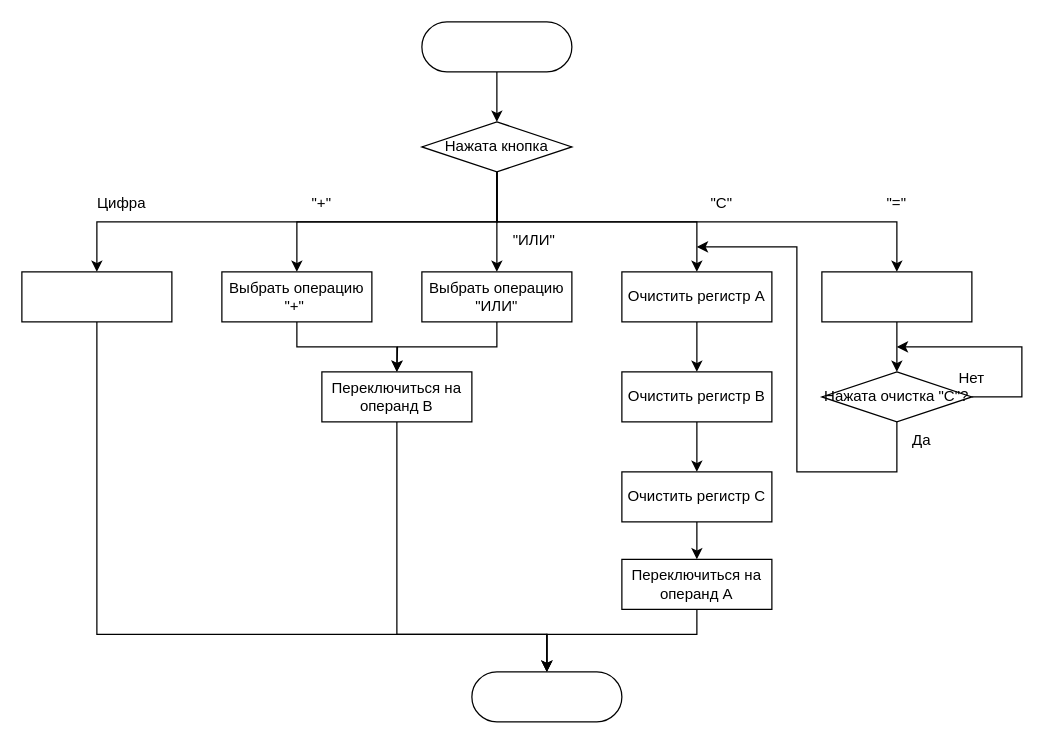
Some shapes in this 1054 by 744 pixel diagram are drawn without their labels. The shapes that lost their labels are listed below. From the top down, each one's box as (x1, y1, x2, y2) in pixels, then its label:
(421, 21, 572, 72): Начало
(21, 271, 172, 322): Вписать число в операнд
(821, 271, 972, 322): Запись результата в регистр C
(471, 671, 622, 722): Конец
